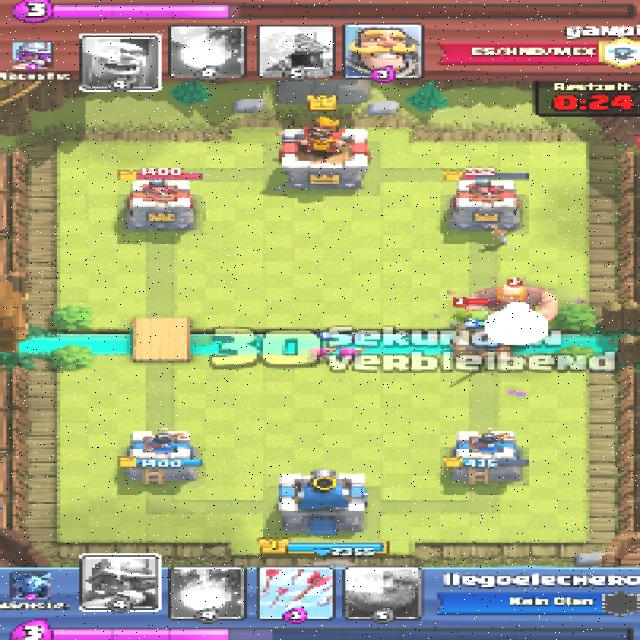Enemy-Giant: (466, 286, 561, 320)
Player-Archer: (332, 348, 365, 369), (306, 348, 334, 363)
Player-GoblinCage: (453, 305, 502, 329)
Player-Knight: (467, 326, 513, 352)
